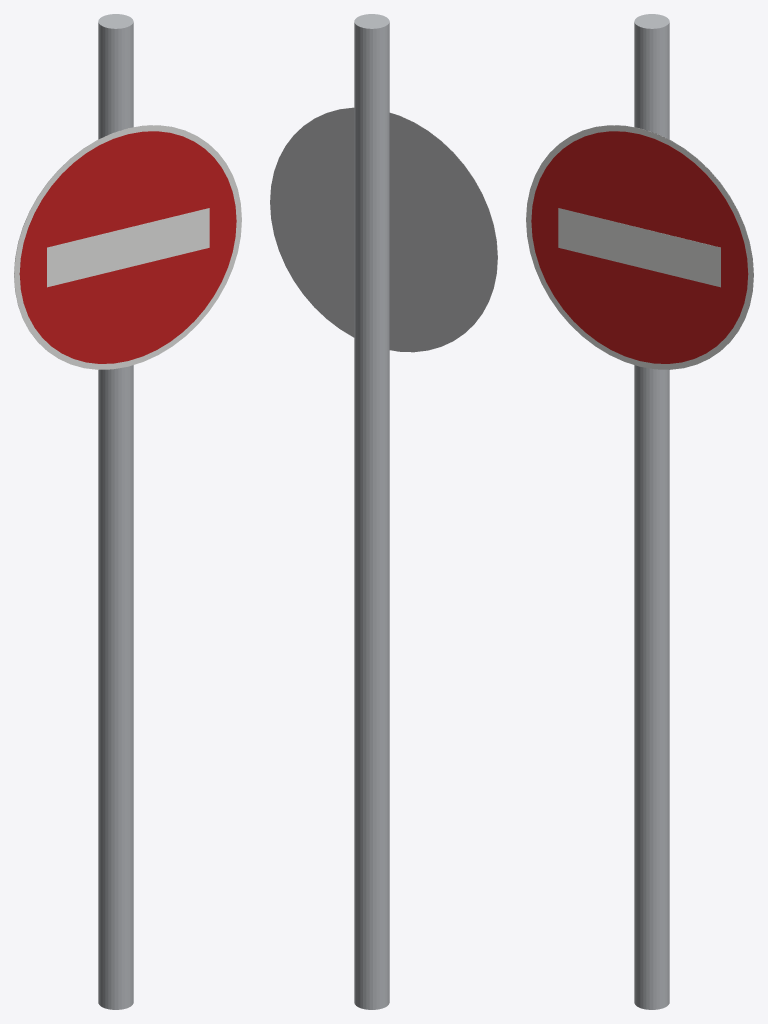
File: matfeu_B1.glb
3 views of the same model, side by side, from view 1: azimuth 30°, elevation 25°; view 2: azimuth 150°, elevation 25°; view 3: azimuth 330°, elevation 25° (orthographic).
Visible parts, largest first — view 1: B1_p01.001, matfeu_B1_mat, B1_p02.001, B1_p00.001; view 2: matfeu_B1_mat, B1_dos.001; view 3: B1_p01.001, matfeu_B1_mat, B1_p02.001, B1_p00.001.
Part boxes in pixels (x1=…): B1_p01.001: x1=19, y1=131, x2=236, y2=363; matfeu_B1_mat: x1=98, y1=14, x2=133, y2=1009; B1_p02.001: x1=47, y1=208, x2=209, y2=287; B1_p00.001: x1=14, y1=125, x2=241, y2=369; matfeu_B1_mat: x1=354, y1=14, x2=389, y2=1009; B1_dos.001: x1=270, y1=107, x2=497, y2=352; B1_p01.001: x1=531, y1=131, x2=748, y2=363; matfeu_B1_mat: x1=634, y1=14, x2=669, y2=1009; B1_p02.001: x1=558, y1=208, x2=720, y2=287; B1_p00.001: x1=526, y1=125, x2=753, y2=369.
Size of the model in its own units: 0.85 by 3.5 by 0.1365.
